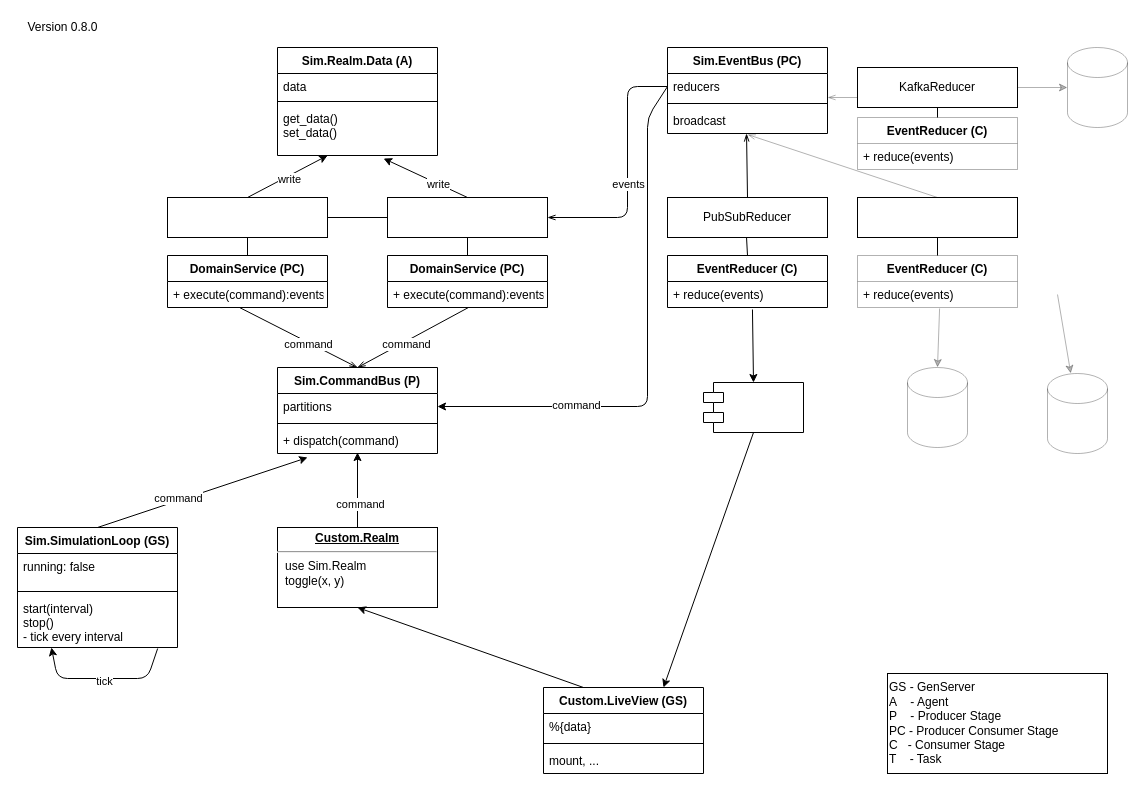
The diagram is 1145 pixels wide and 793 high, and some of its shapes have lost their labels. The shapes that lost their labels are listed below. From the top down, each one's centre as x and y in pixels, then its label:
the point at 1097,87: Kafka
the point at 247,217: SimService (T)
the point at 467,217: UserService (T)
the point at 937,217: PostgresReducer
the point at 753,407: PubSub
the point at 937,407: RDBMS
the point at 1077,413: NoSQL
